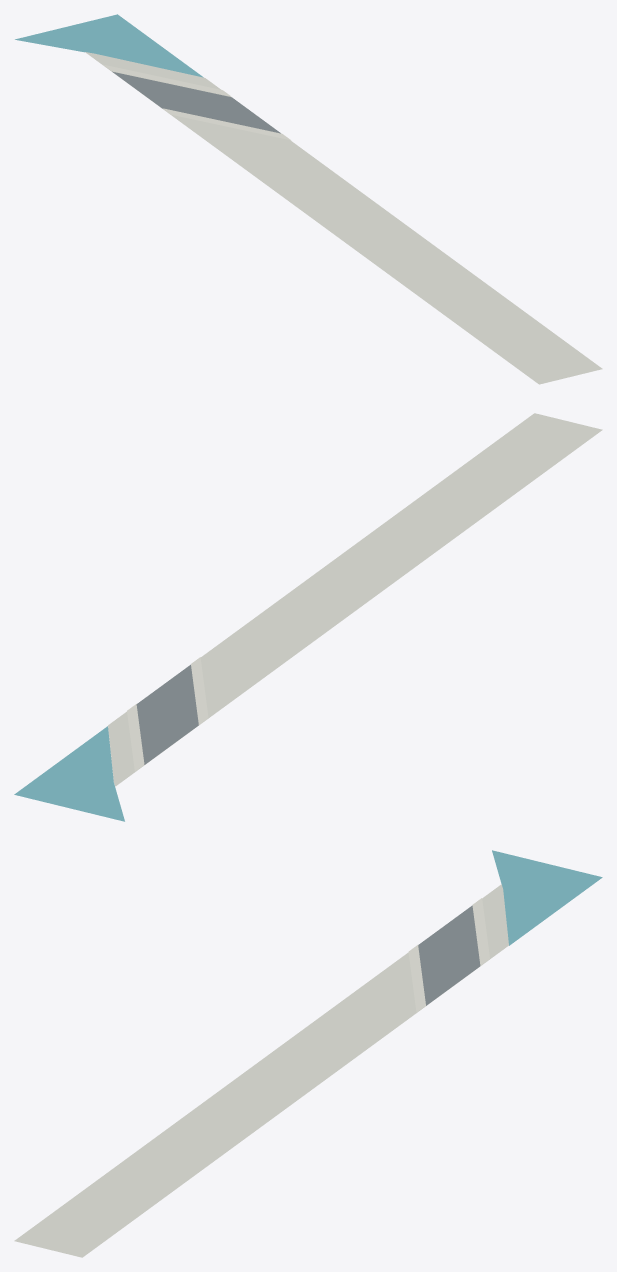
3 renders of one model, top to bottom at view 1: azimuth 30°, elevation 25°; view 2: azimuth 150°, elevation 25°; view 3: azimuth 330°, elevation 25°, orthographic. The views are drawn at different scales.
Visible parts, largest first — view 1: city; view 2: city; view 3: city.
Part boxes in pixels (<box>): city: <box>15,14,602,384</box>; city: <box>14,413,602,821</box>; city: <box>14,850,602,1257</box>.
Bounding box in the file's own units: 36.69 × 0.4 × 297.
